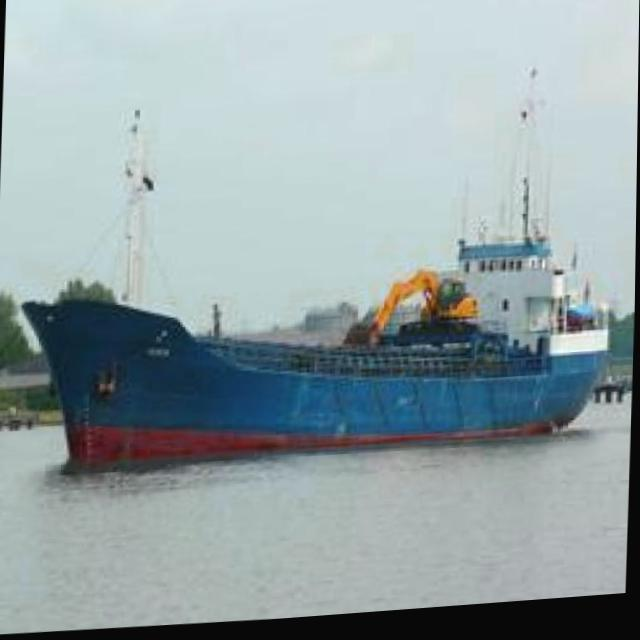ship2: (20, 75, 610, 475)
